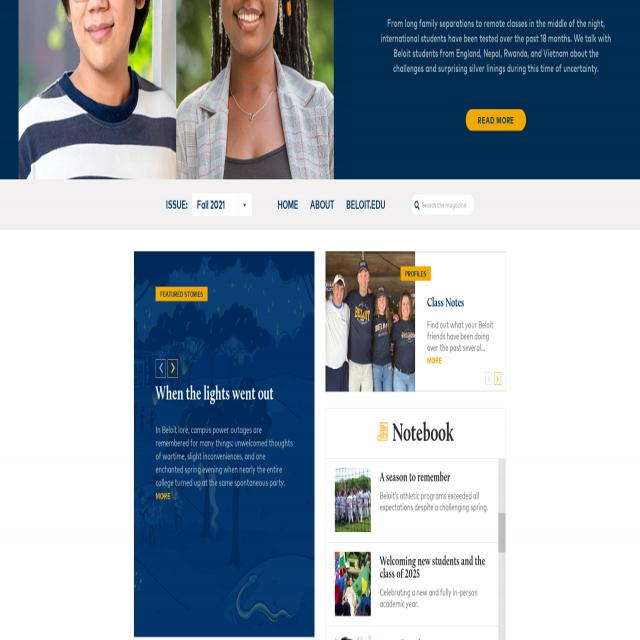button: (176, 0, 334, 179), (19, 0, 176, 179), (325, 251, 415, 392), (334, 552, 372, 616), (335, 468, 371, 532), (466, 109, 526, 130), (156, 287, 208, 301), (498, 513, 506, 553), (168, 359, 178, 377), (156, 360, 166, 378), (412, 197, 422, 213), (485, 372, 492, 385), (494, 372, 501, 384)
field: (192, 194, 252, 216), (411, 195, 474, 215)
